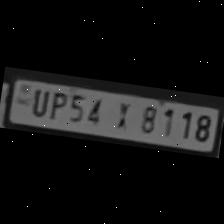1: (158, 104, 180, 138), (173, 106, 193, 140)
4: (82, 92, 108, 125)
5: (64, 90, 86, 122)
8: (134, 100, 161, 134), (190, 108, 214, 143)
P: (45, 87, 69, 120)
U: (26, 84, 50, 117)
